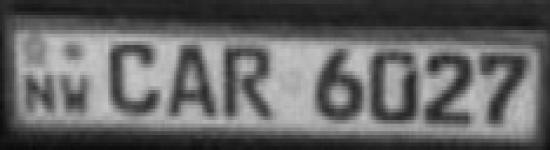0: (366, 43, 420, 126)
2: (423, 47, 476, 133)
6: (312, 43, 367, 127)
7: (476, 49, 530, 129)
A: (163, 38, 219, 126)
C: (104, 39, 163, 121)
N: (22, 70, 58, 120)
R: (222, 39, 274, 126)
W: (59, 66, 96, 121)
